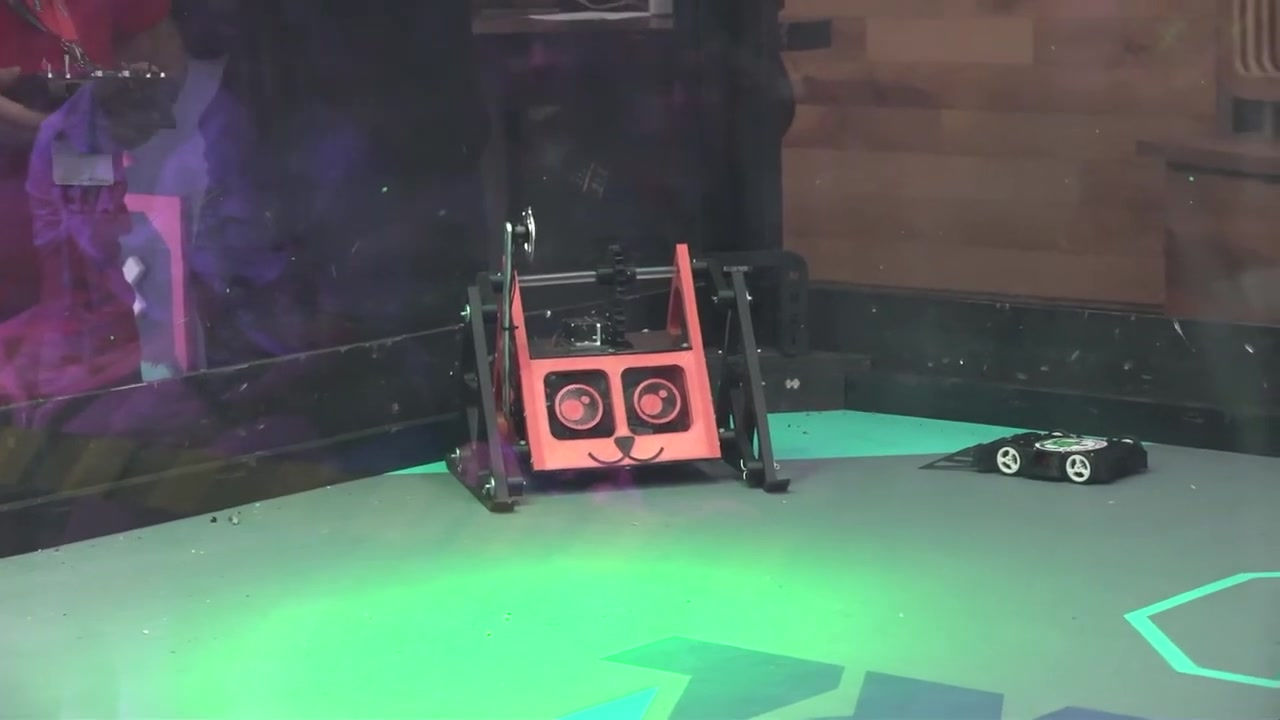combatbot: (447, 326, 791, 514)
minibot: (980, 431, 1149, 489)
